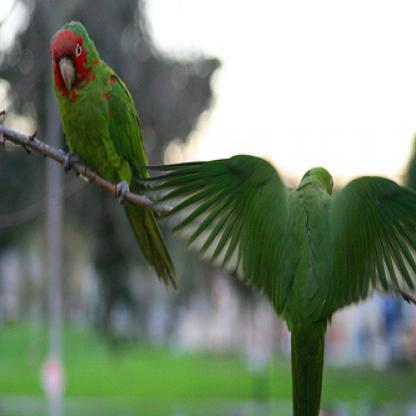bird: (133, 151, 415, 415), (48, 17, 182, 298)
